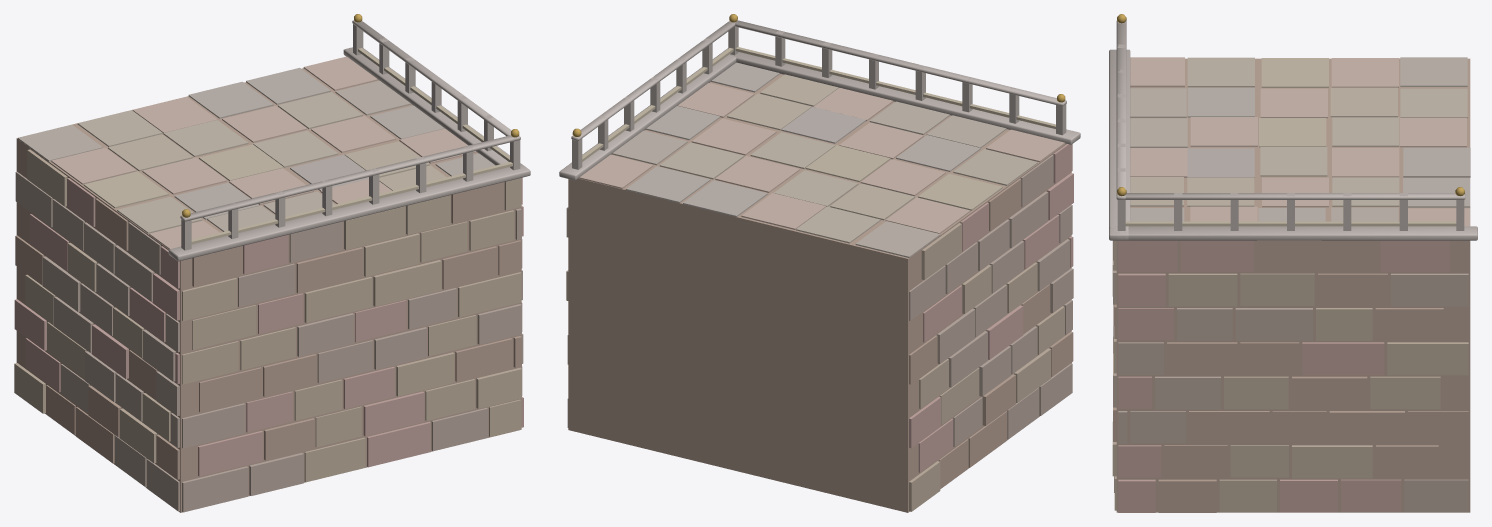
The model's file is stillroom_terrace.glb.
3 renders of one model, left to right at view 1: azimuth 30°, elevation 25°; view 2: azimuth 150°, elevation 25°; view 3: azimuth 270°, elevation 25°, orthographic. The views are drawn at different scales.
Parts seen in each view (by area): view 1: stillroom_terrace; view 2: stillroom_terrace; view 3: stillroom_terrace.
Boxes of the visible parts, x1,y1,x2,y2 form: stillroom_terrace: (14,14,530,512); stillroom_terrace: (559,14,1080,512); stillroom_terrace: (1109,14,1477,512).
Size of what is drawn, in the model's own units: 8.7 by 7.06 by 7.3.
